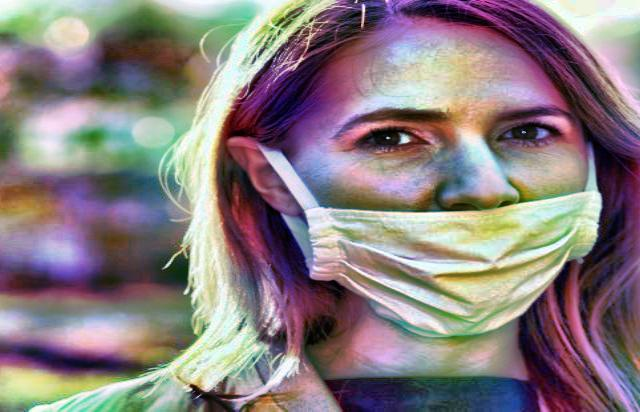mask_weared_incorrect: (189, 1, 604, 341)
